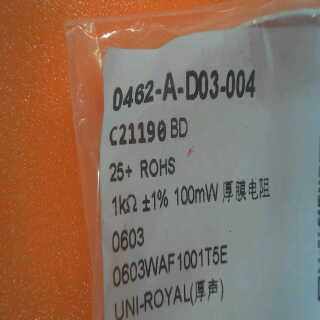1kR: (108, 190, 142, 220)
